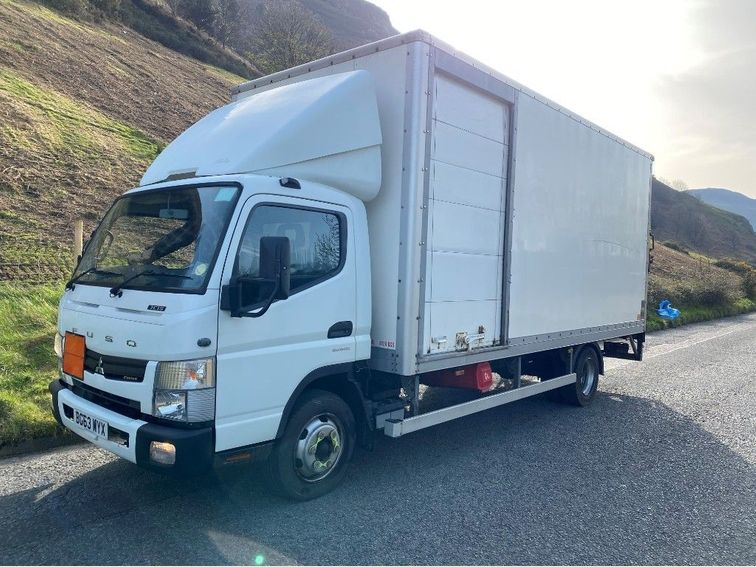Semi: (48, 29, 652, 500)
